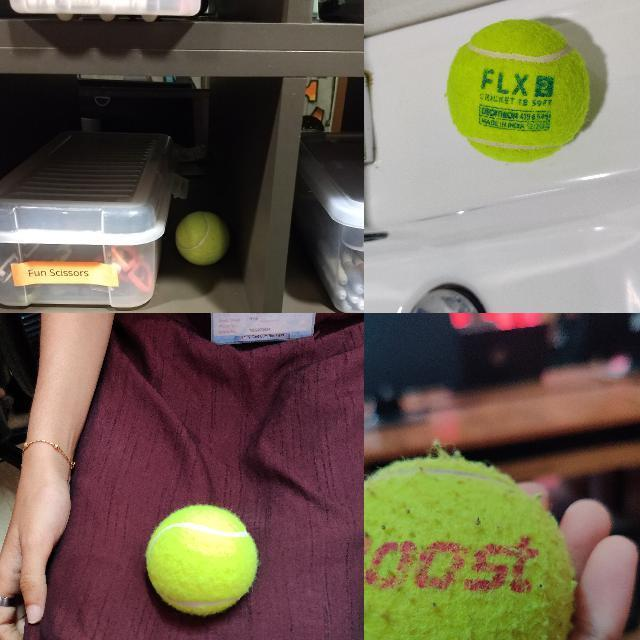tennis-ball: (364, 456, 574, 639), (444, 20, 590, 163), (146, 506, 256, 614), (175, 210, 231, 266)
